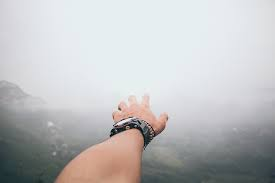hand: (98, 83, 179, 147)
